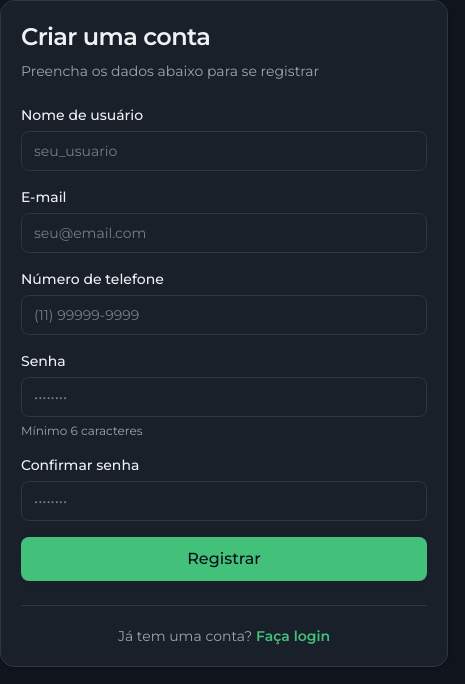
Test case: Register › formata o telefone enquanto digita
The image size is (465, 684).
Type "11999998888" into the field labelled "Número de telefone".
click(224, 315); type("11999998888")  # box [21, 295, 427, 335]
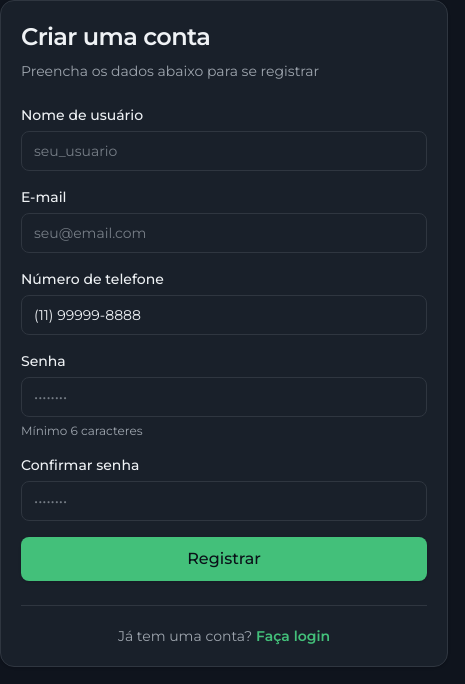
Now the field labelled "Número de telefone" holds "(11) 99999-8888", box [21, 295, 427, 335]
